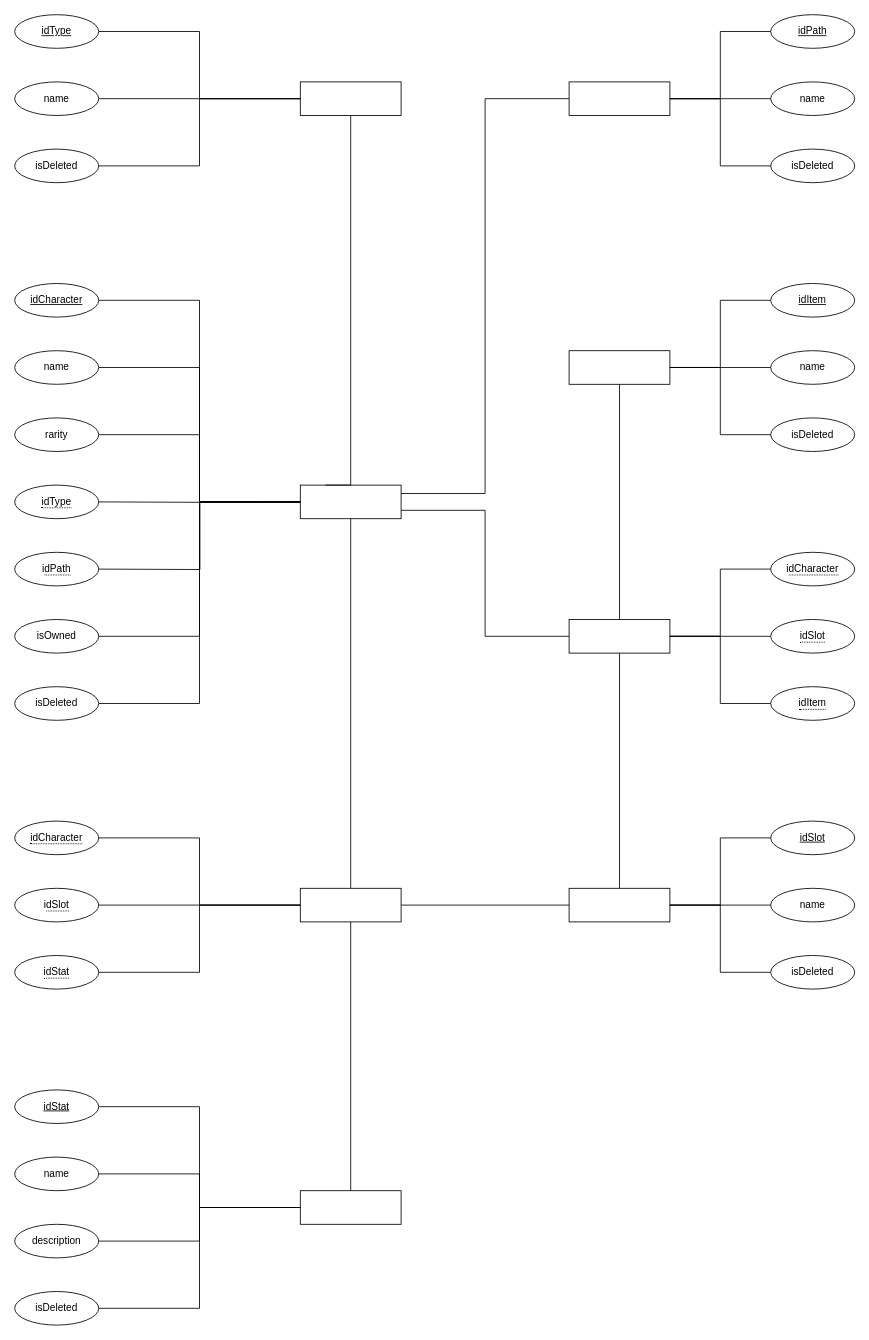
Some shapes in this 869 by 1340 pixel diagram are drawn without their labels. The box of each missing label's shape, as (x1, y1, x2, y2) in pixels:
Character: (299, 484, 401, 519)
CharacterItem: (568, 619, 670, 653)
CharacterStat: (299, 887, 401, 922)
Item: (568, 350, 670, 384)
Path: (568, 81, 670, 116)
Slot: (568, 887, 670, 922)
Stat: (299, 1190, 401, 1224)
Type: (299, 81, 401, 116)
